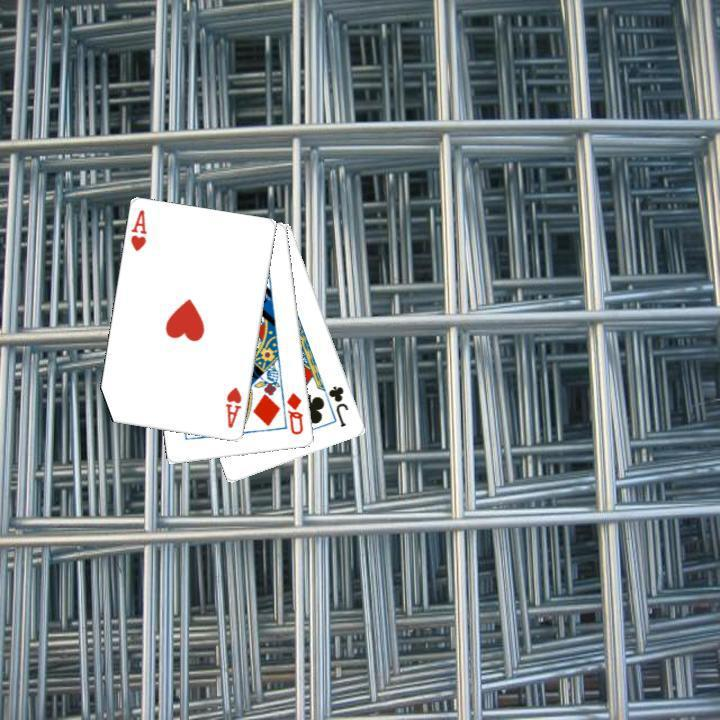A: (221, 383, 244, 430), (126, 206, 149, 253)
J: (324, 381, 351, 429)
Q: (282, 388, 306, 437)
